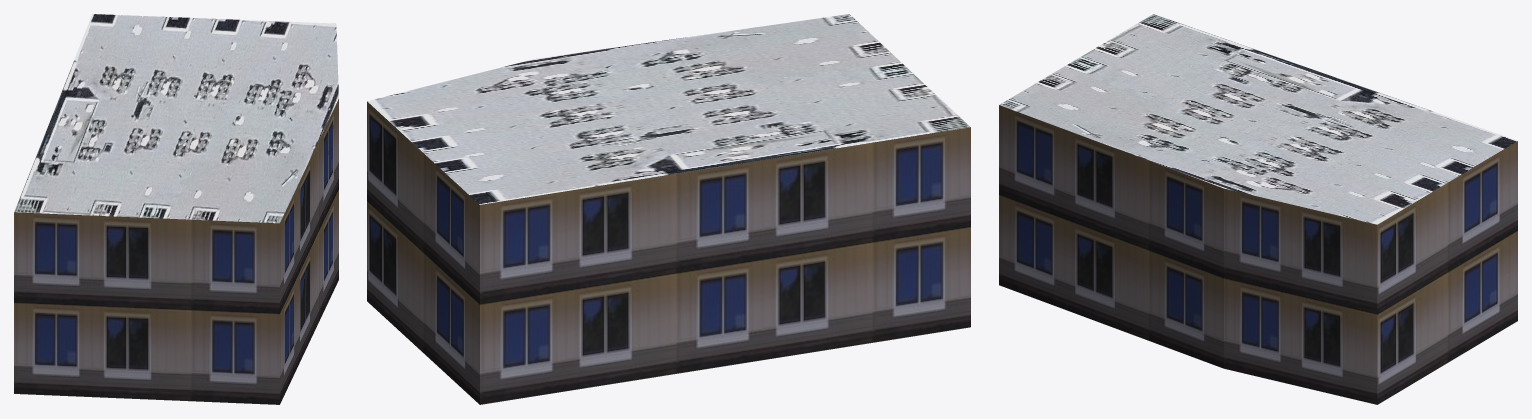
File: ResTex__3812.fbx
The picture shows the model from 3 angles, left to right: view 1: azimuth 30°, elevation 25°; view 2: azimuth 150°, elevation 25°; view 3: azimuth 270°, elevation 25°; orthographic projection. The views are drawn at different scales.
Visible parts, largest first — view 1: CityEngineMaterial_5_m, CityEngineMaterial_8_m; view 2: CityEngineMaterial_5_m, CityEngineMaterial_8_m; view 3: CityEngineMaterial_5_m, CityEngineMaterial_8_m.
Boxes of the visible parts, bbox=[...] form: CityEngineMaterial_5_m: bbox=[14, 99, 338, 404]; CityEngineMaterial_8_m: bbox=[14, 14, 338, 223]; CityEngineMaterial_5_m: bbox=[367, 101, 970, 404]; CityEngineMaterial_8_m: bbox=[367, 14, 970, 204]; CityEngineMaterial_5_m: bbox=[999, 105, 1517, 404]; CityEngineMaterial_8_m: bbox=[999, 14, 1517, 224].
Bounding box in the file's own units: 15.05 × 6 × 15.66.
Materials: 2 (2 with a texture image).
